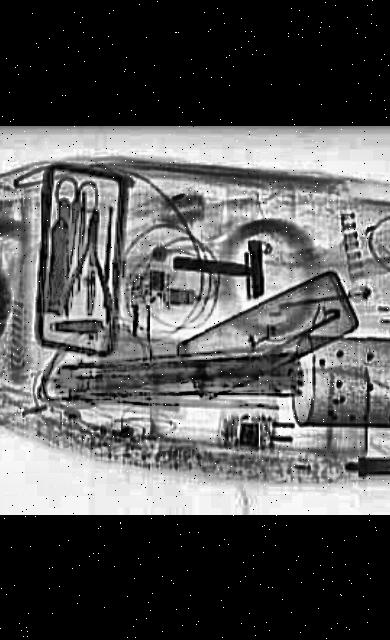Scissors: (53, 174, 97, 288)
